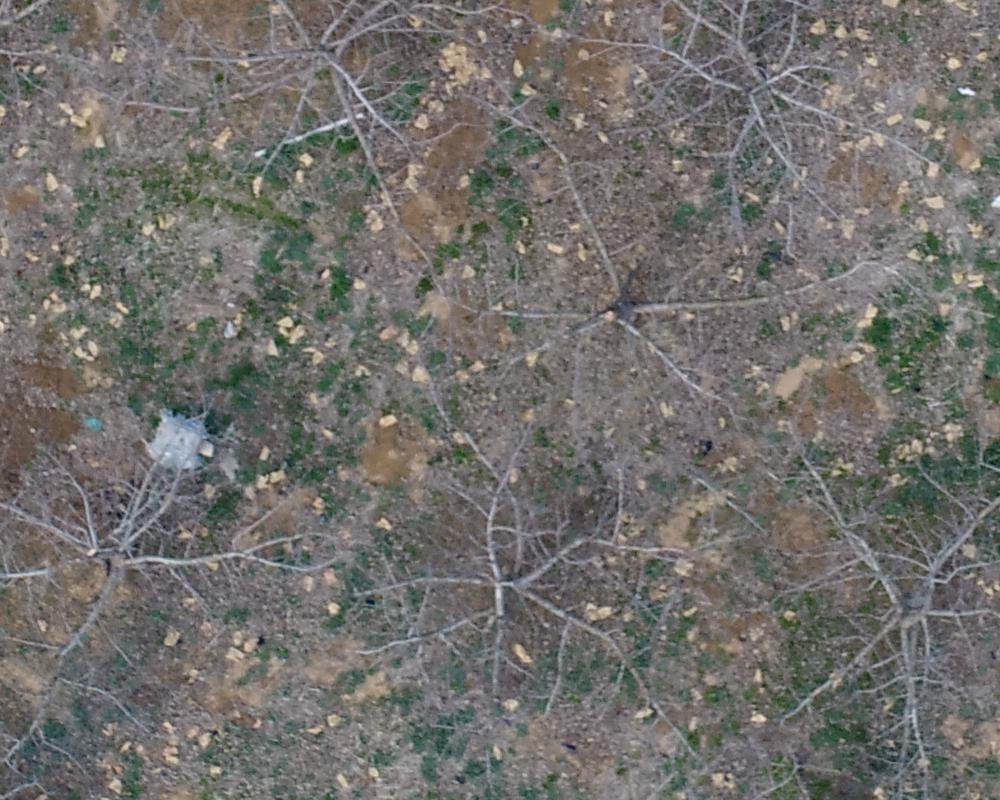apple: (413, 148, 911, 433), (323, 406, 719, 762), (10, 417, 354, 733), (736, 409, 990, 790), (552, 10, 954, 249), (87, 10, 525, 229)
